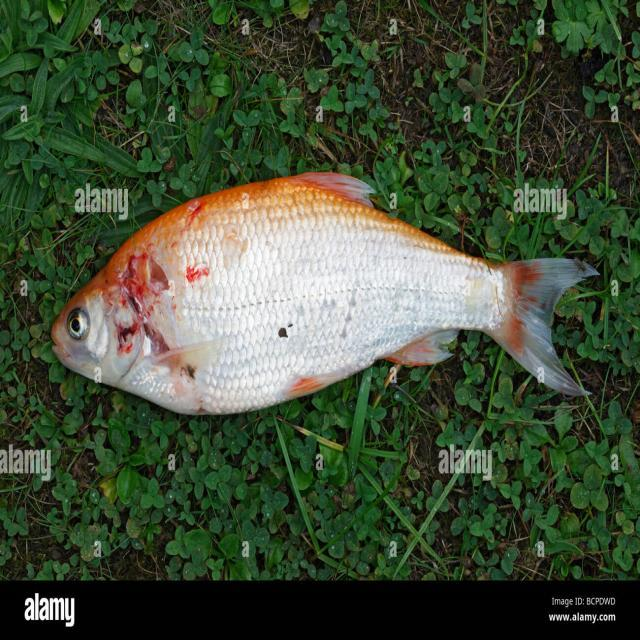EUS Disease: (52, 170, 594, 414), (98, 199, 282, 352), (242, 272, 388, 363)
